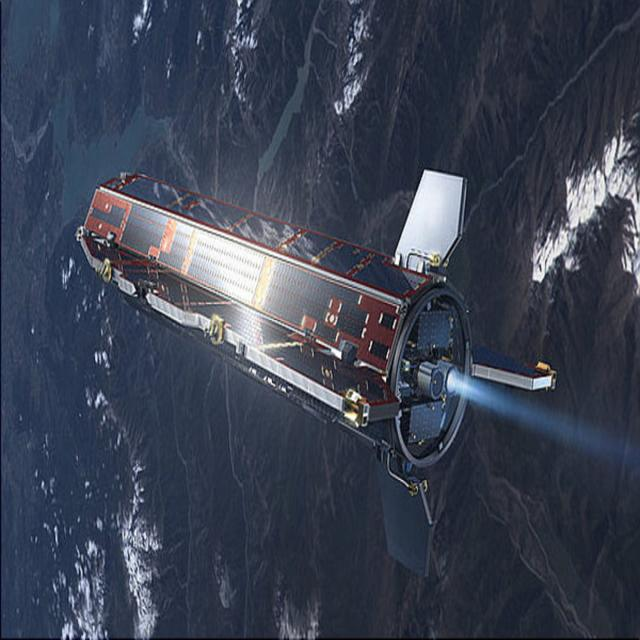medium_debris: (72, 128, 556, 566)
